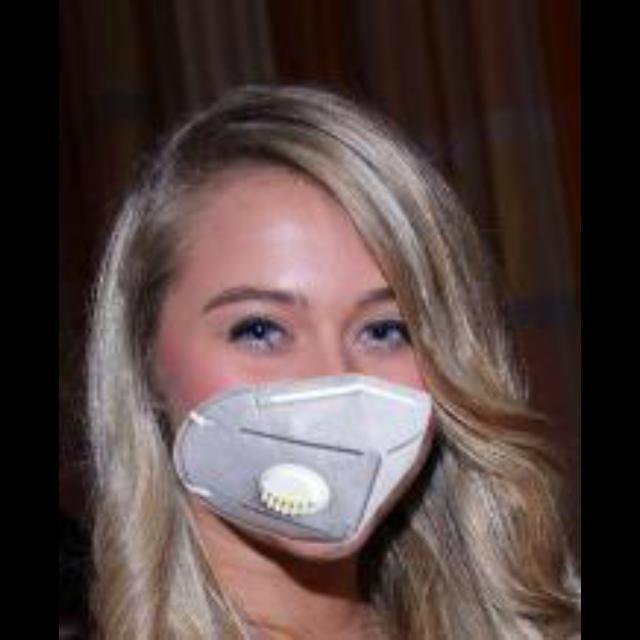suspicion: (137, 128, 459, 572)
